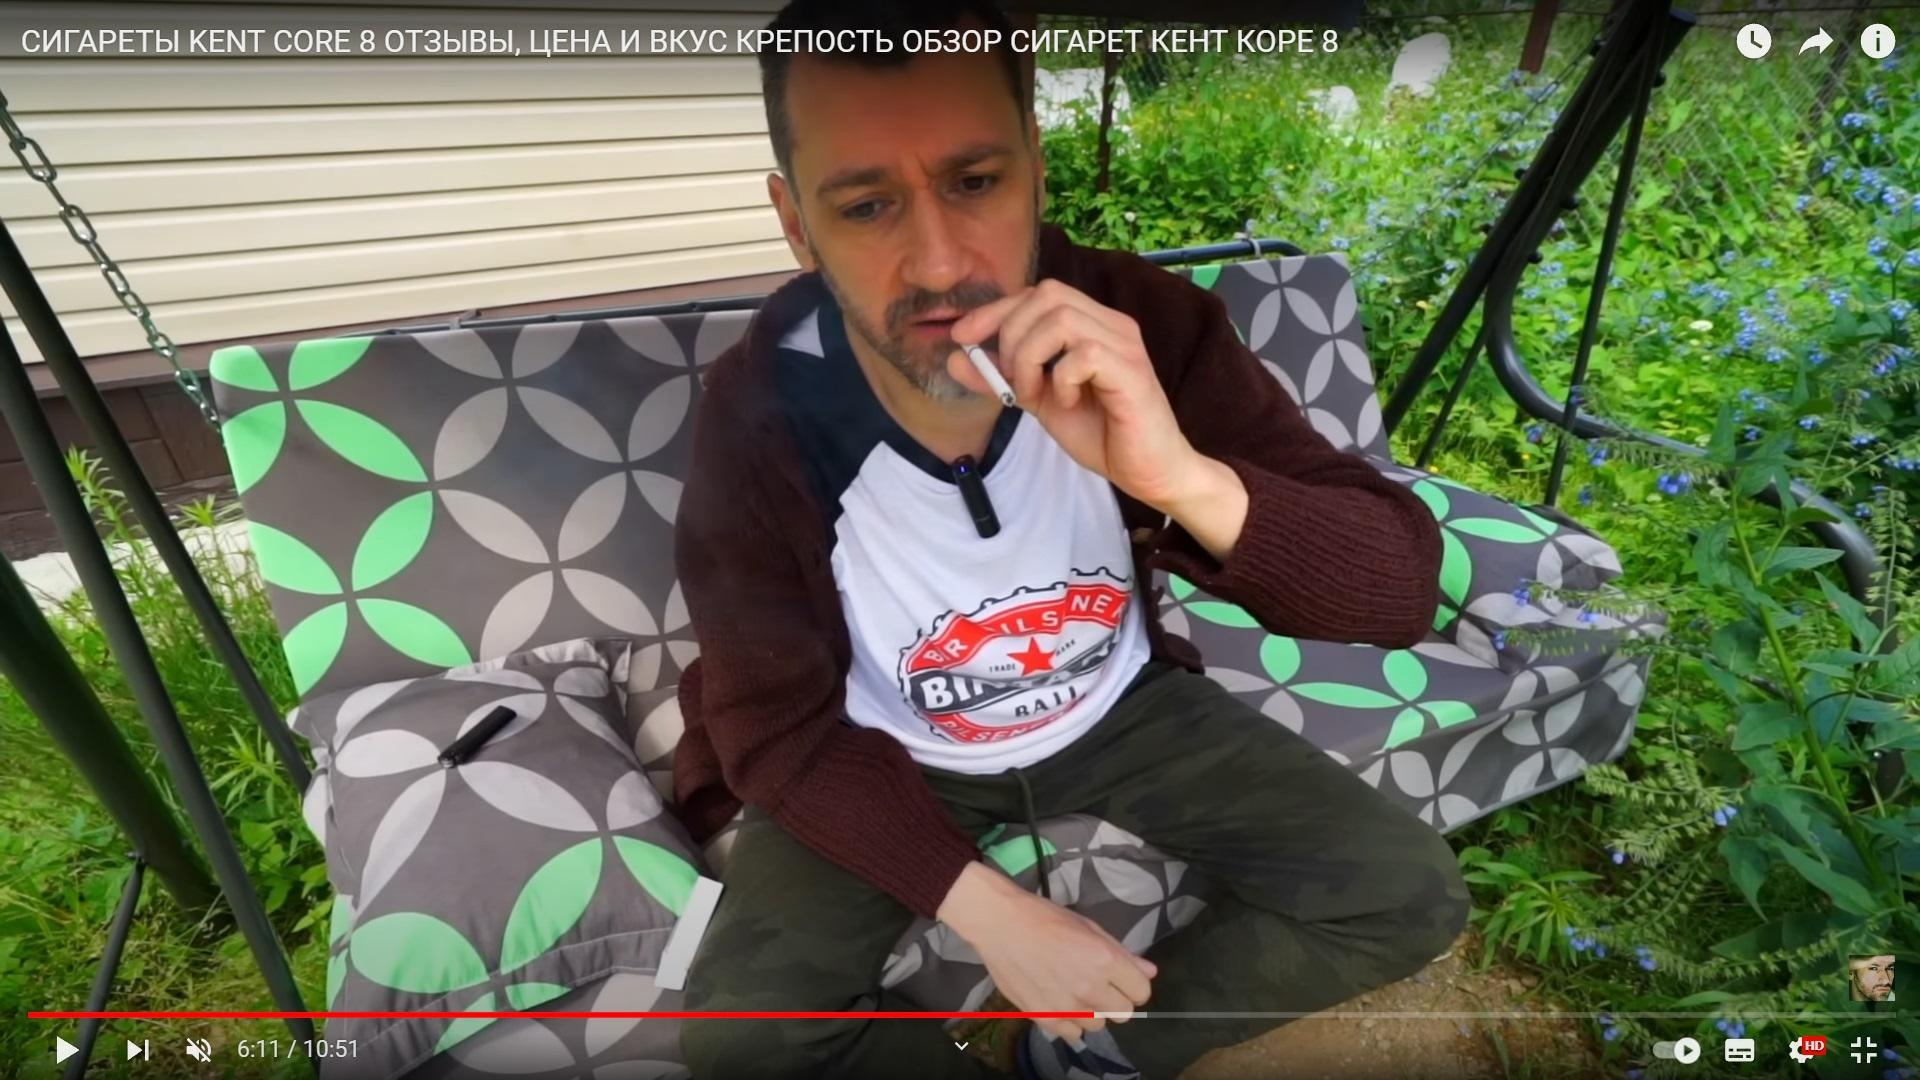cigarette: (959, 343, 1015, 407)
